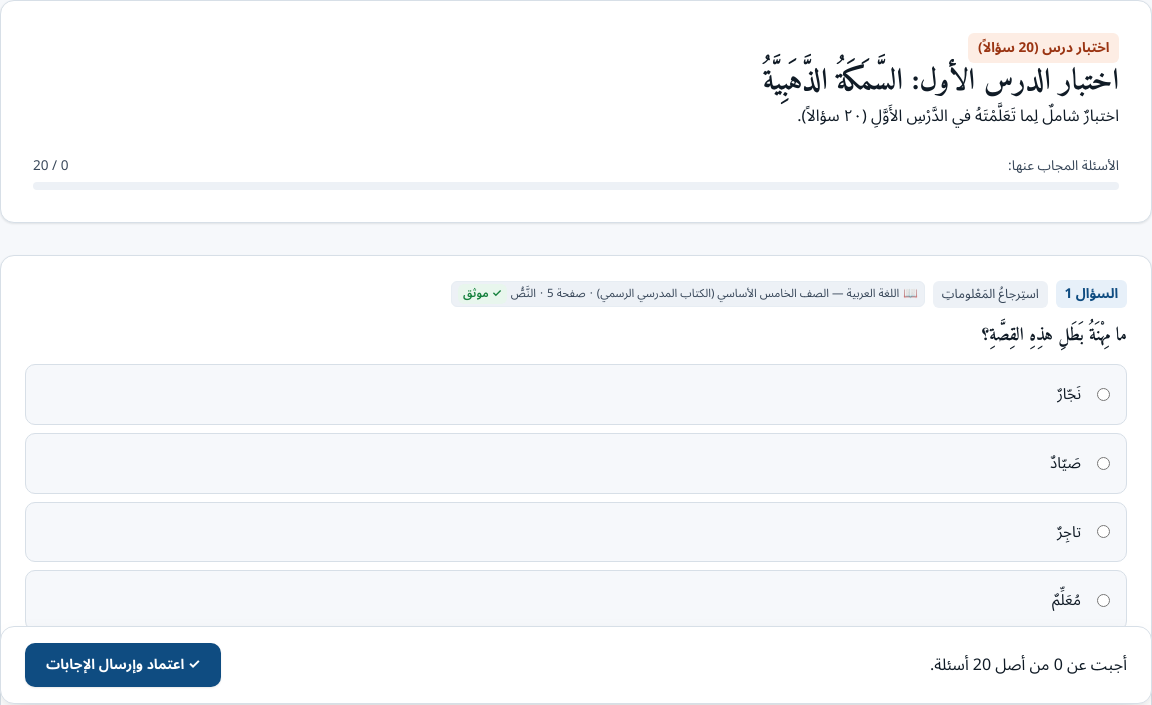
PR1 — assessment draft save failure › submits and evaluates from in-memory answers when nothing ever persisted
The width and height of the screenshot is (1152, 705).
Click the radio button labelled "صَيّادٌ". click: coordinates (1104, 463)
box: [1097,457,1110,470]
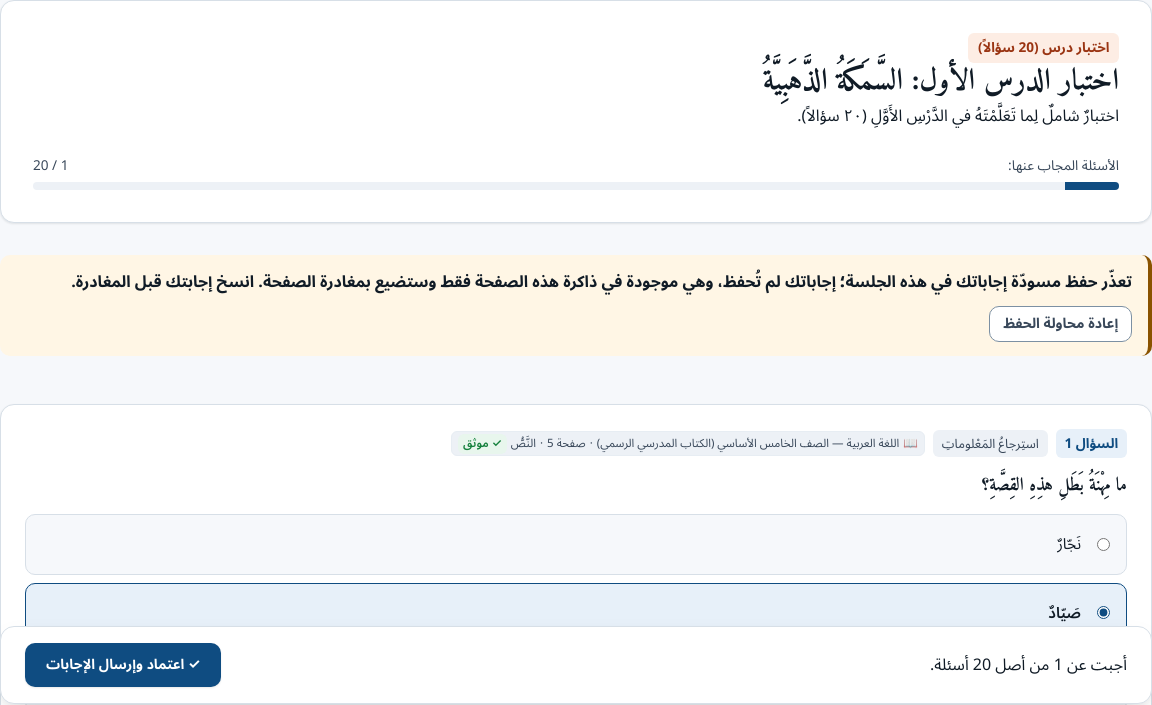
Now the message is shown, box [0,255,1151,356]
Click the button "✓ اعتماد وإرسال الإجابات". click: coordinates (123, 665)
box: [25,643,221,687]
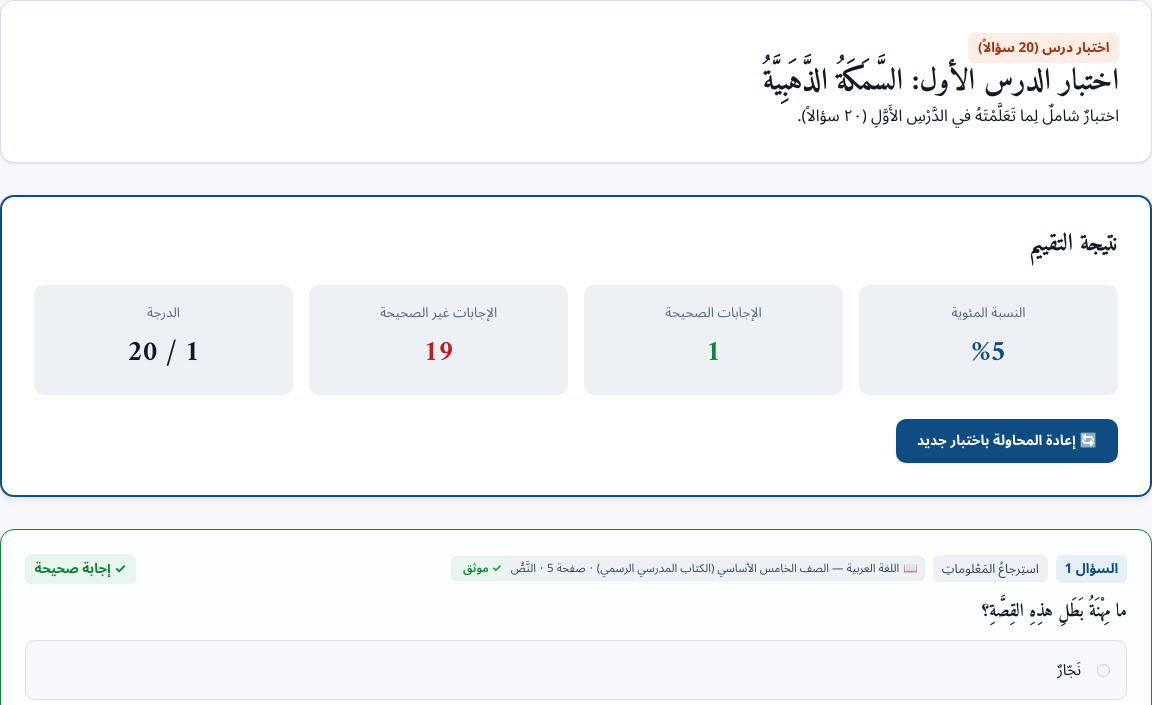
Now the element with class "metric-value" reads "5 %", box [971,328,1006,378]
